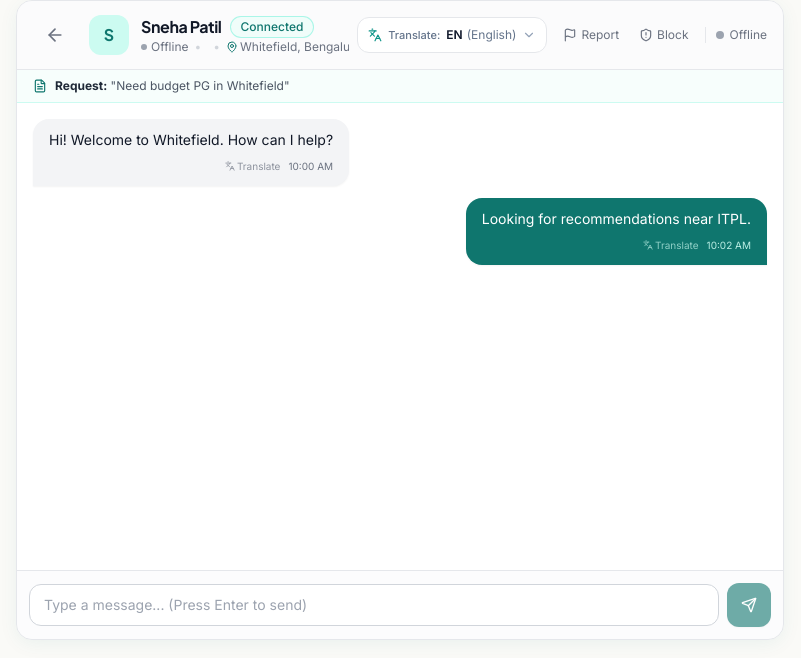
Test: Phase 8 Chat & Messaging Frontend › ChatPage Component › allows sending a new message and updates message stream
Check: the heading "Sneha Patil" is shown, box 141,15 -> 222,39
In the text box with placeholder "Type a message... (Press Enter to send)": {"x": 374, "y": 605} 29,584 -> 719,626, type "What about metro connectivity?"
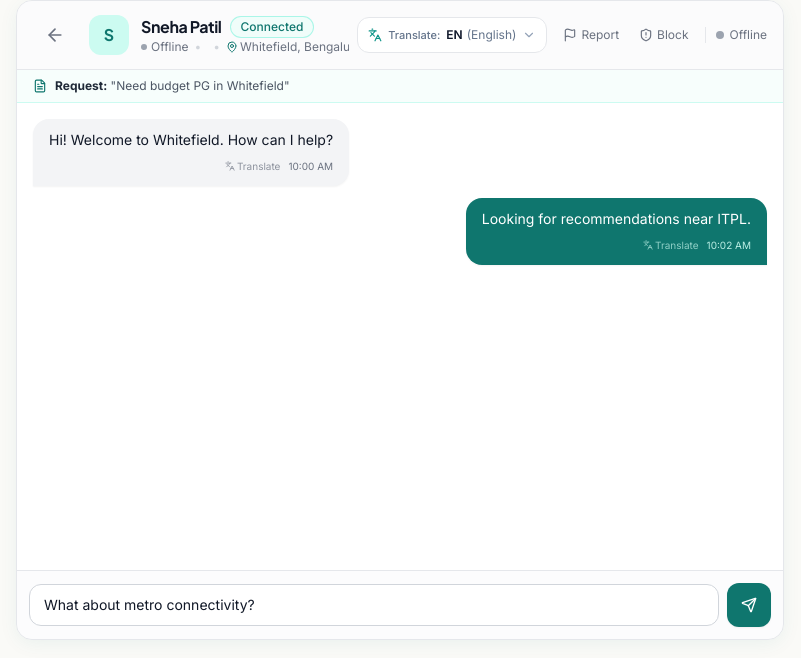
Click the 6th button: {"x": 749, "y": 605} 727,583 -> 771,627
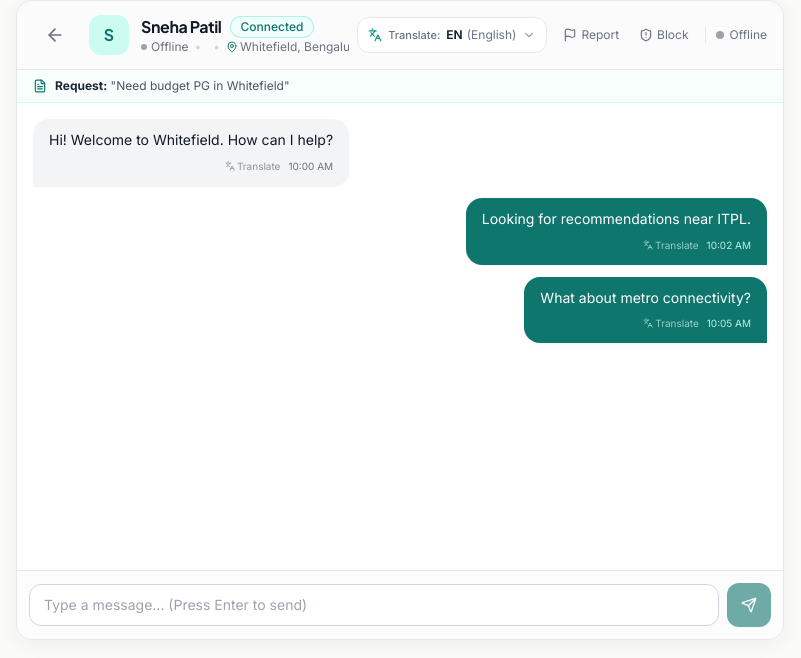
Check: the text "What about metro connectivity?" is shown, box 540,286 -> 751,309
